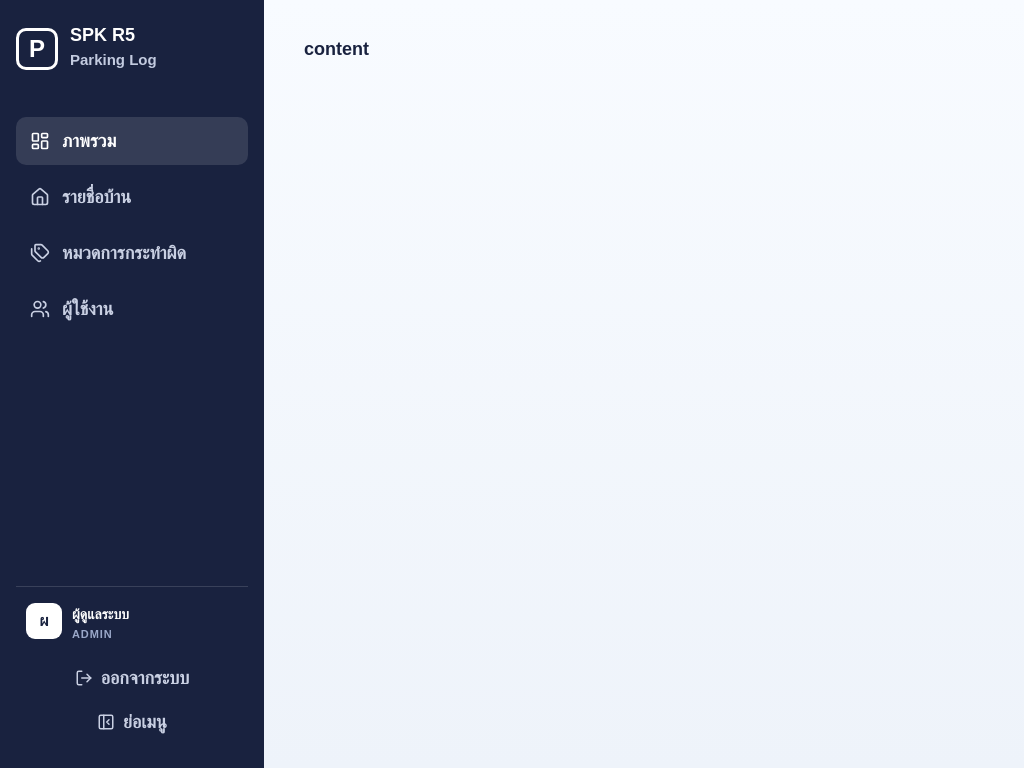
Test: AppShell › keeps the authenticated state when logout fails
Click the button "ออกจากระบบ". click: (132, 678)
box: x1=16 y1=656 x2=248 y2=700
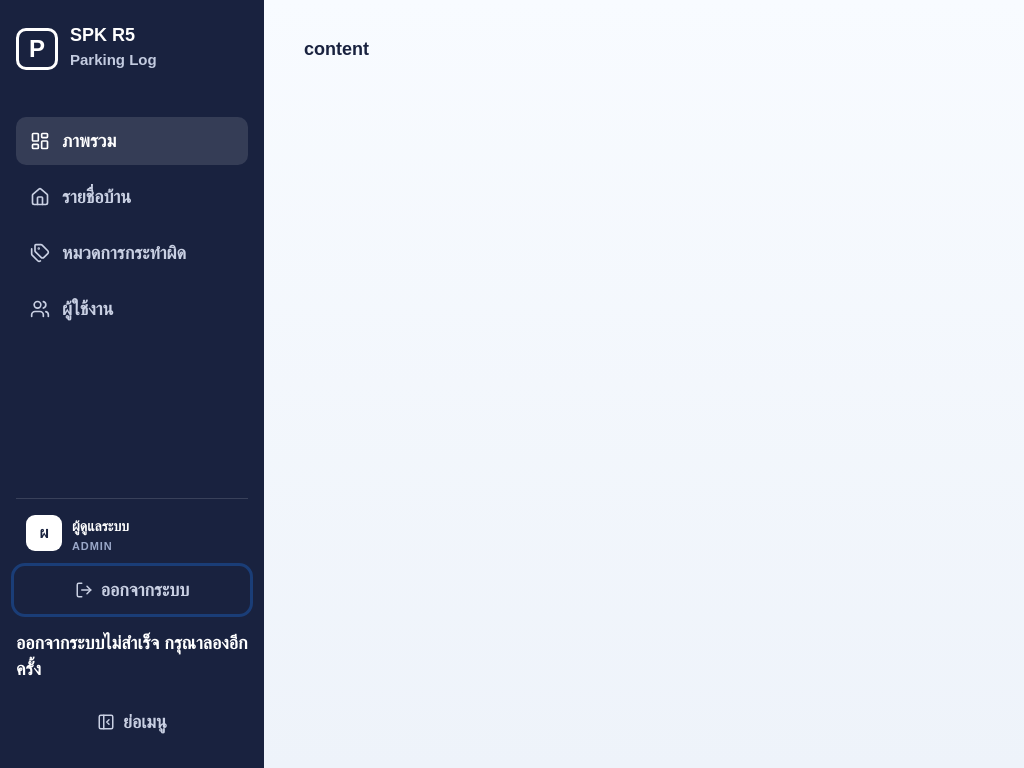
Expected: the text "ออกจากระบบไม่สำเร็จ กรุณาลองอีกครั้ง" is shown, x1=16 y1=630 x2=248 y2=682
